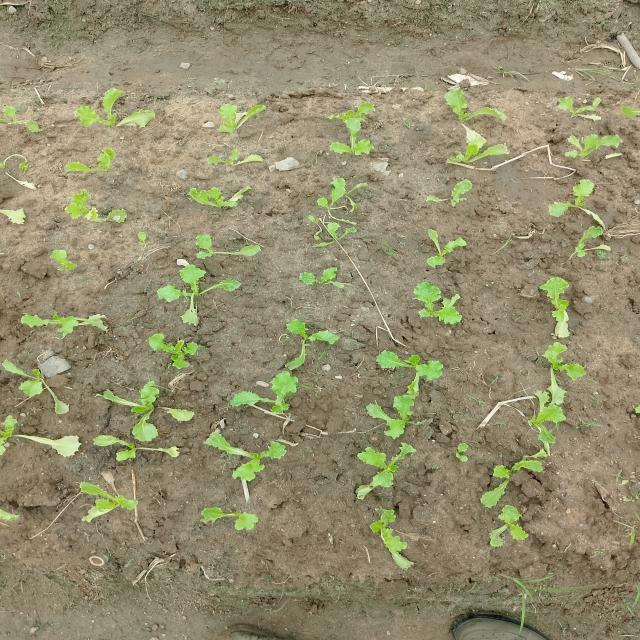Lettuce: (151, 258, 242, 330), (372, 342, 451, 399), (61, 86, 147, 138), (350, 438, 417, 504), (104, 381, 178, 439), (476, 449, 550, 505), (532, 270, 590, 340), (536, 180, 624, 222), (74, 477, 140, 532), (432, 131, 521, 171), (190, 223, 272, 266), (322, 102, 373, 169), (208, 435, 278, 482), (220, 373, 306, 411), (557, 127, 624, 175), (407, 277, 467, 330), (56, 183, 116, 236), (360, 510, 411, 572), (411, 224, 471, 276), (370, 387, 431, 438), (2, 360, 76, 402), (525, 343, 615, 377), (12, 306, 107, 338), (186, 504, 265, 541), (281, 318, 338, 369), (178, 178, 256, 214), (482, 497, 532, 546), (144, 332, 202, 373), (527, 386, 567, 444), (418, 176, 484, 210), (316, 173, 368, 216), (442, 89, 491, 131), (213, 101, 261, 138), (293, 262, 347, 292), (564, 226, 611, 259), (0, 413, 26, 466)
